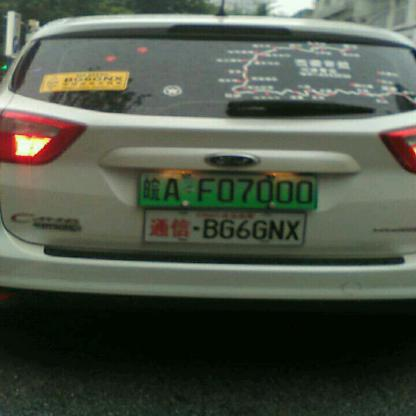lp: (138, 173, 317, 208)
